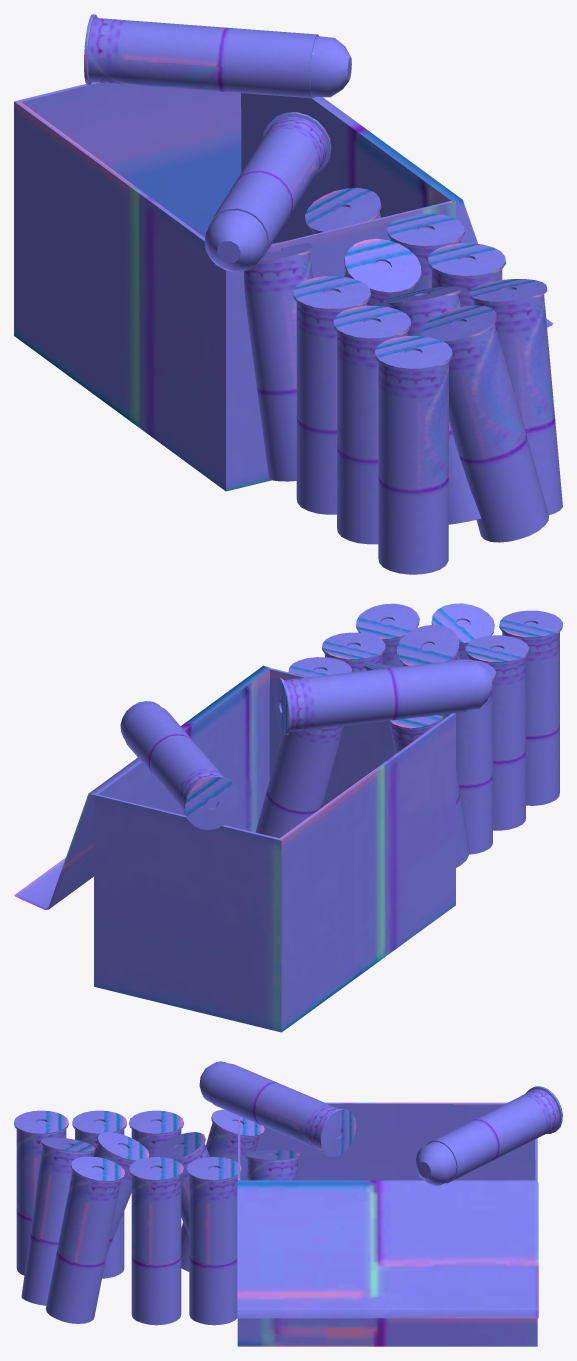
File: Ammo.glb
3 renders of one model, top to bottom at view 1: azimuth 30°, elevation 25°; view 2: azimuth 150°, elevation 25°; view 3: azimuth 270°, elevation 25°, orthographic. The views are drawn at different scales.
Visible parts, largest first — view 1: Ammo; view 2: Ammo; view 3: Ammo.
Boxes of the visible parts, box(x1,y1,x2,y2) form: Ammo: box(14, 14, 562, 574); Ammo: box(14, 603, 562, 1032); Ammo: box(14, 1061, 562, 1346).
Size of the model in its own units: 1.41 by 1.12 by 2.67.
Materials: 4 (4 with a texture image).
